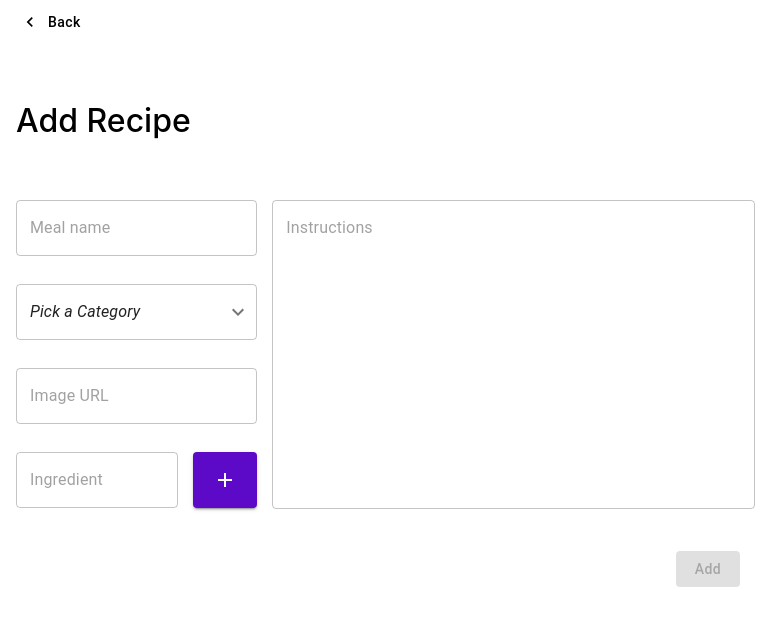
AddRecipePage test suite › AddRecipePage should add/remove ingredients
The image size is (772, 640).
Expected: the field showing "test" is not shown
Type "test" into the field with placeholder "Ingredient" at (97, 480), box [16,452,178,508]
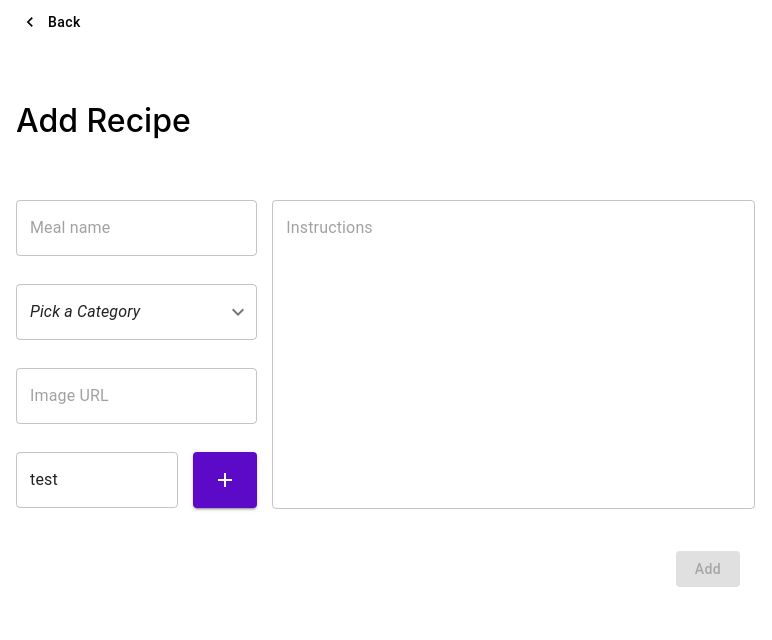
Click the button with test id "addIngredientButton" at (225, 480), box [193,452,257,508]
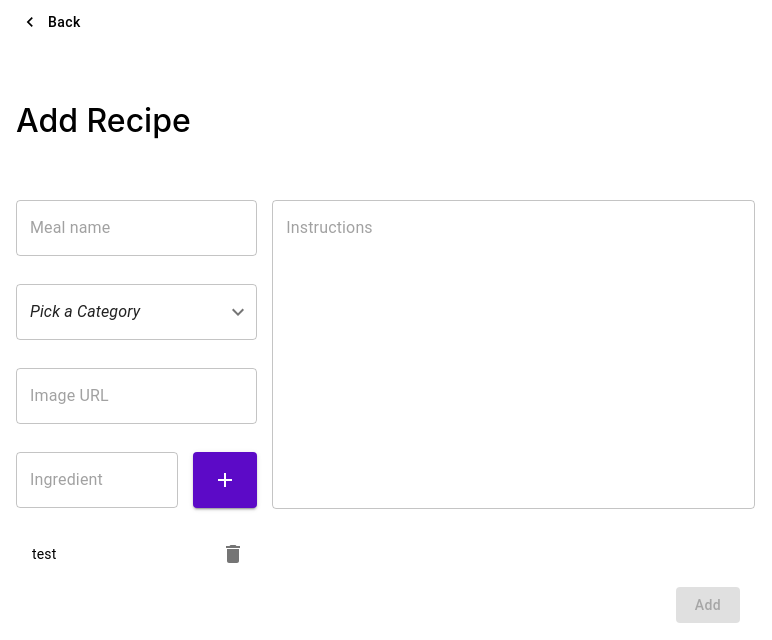
Expected: the field with placeholder "Ingredient" is shown, [16,452,178,508]
Expected: the text "test" is shown, [32,546,56,562]
Click the button with test id "removeIngredientButton" at (233, 554), box [213,534,253,574]
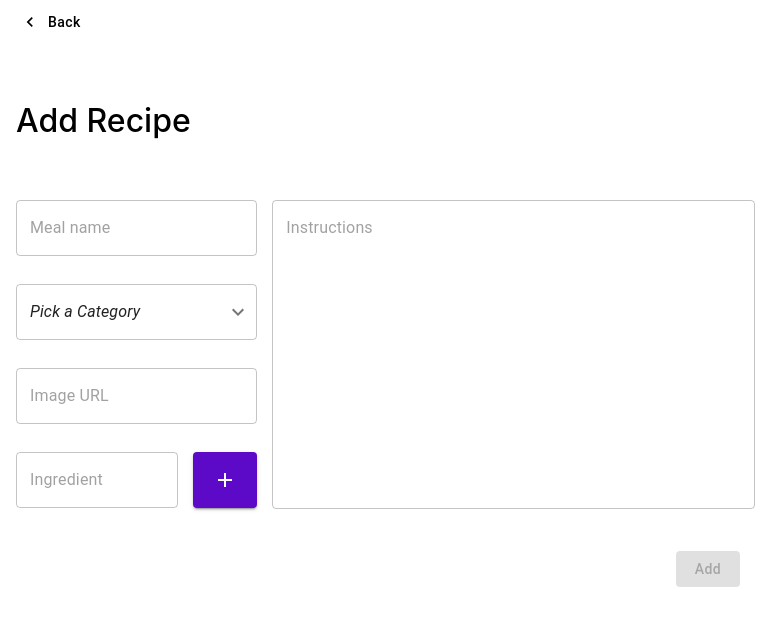
Expected: the text "test" is gone
